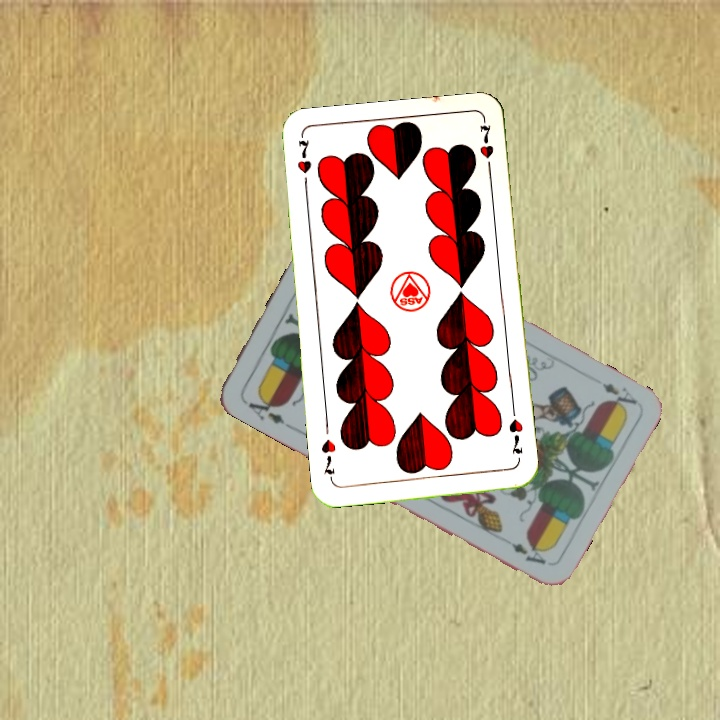EA: (240, 389, 294, 431), (598, 378, 640, 413)
H7: (293, 133, 314, 193), (504, 415, 526, 457)
